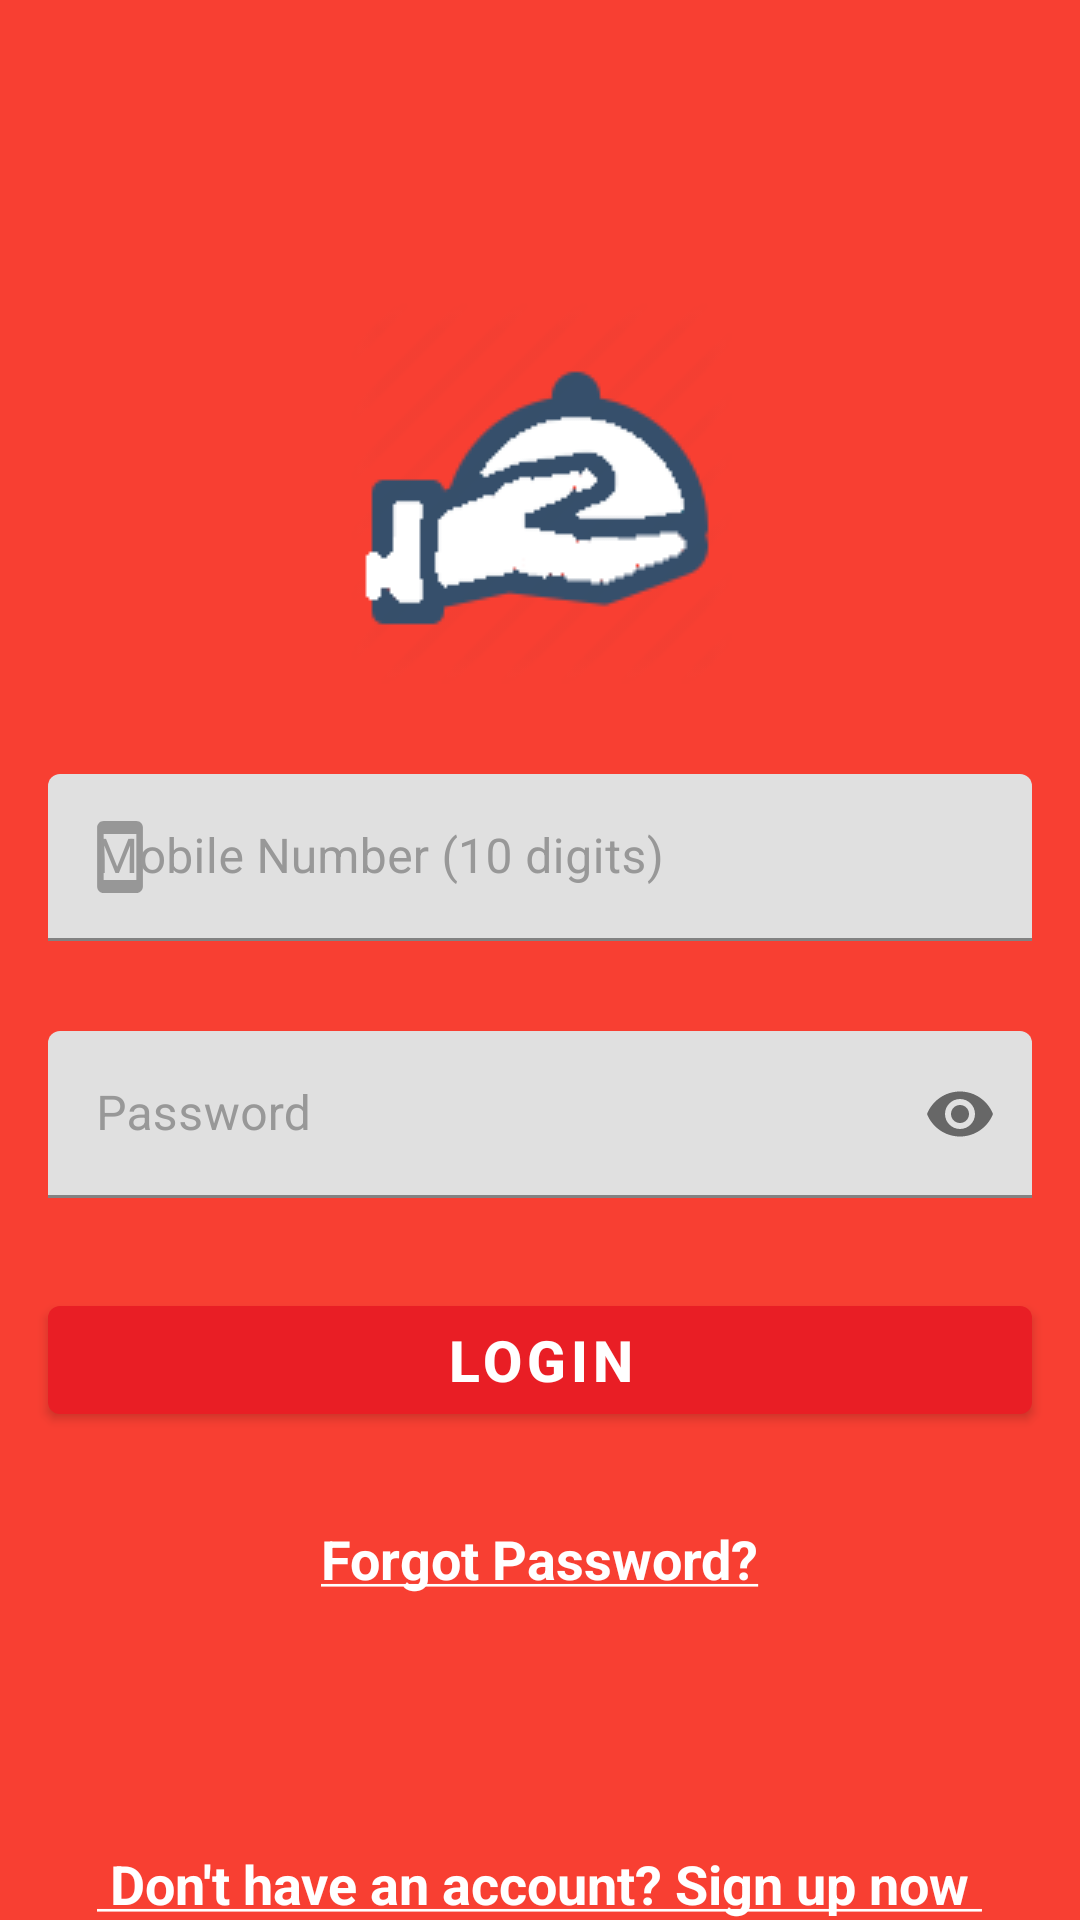

Locate icon controls on the screen. Image size 1080x1920, boxes as [left=x1, top=y1, right=x2, bottom=y2].
foodapp: [left=365, top=371, right=709, bottom=625]
